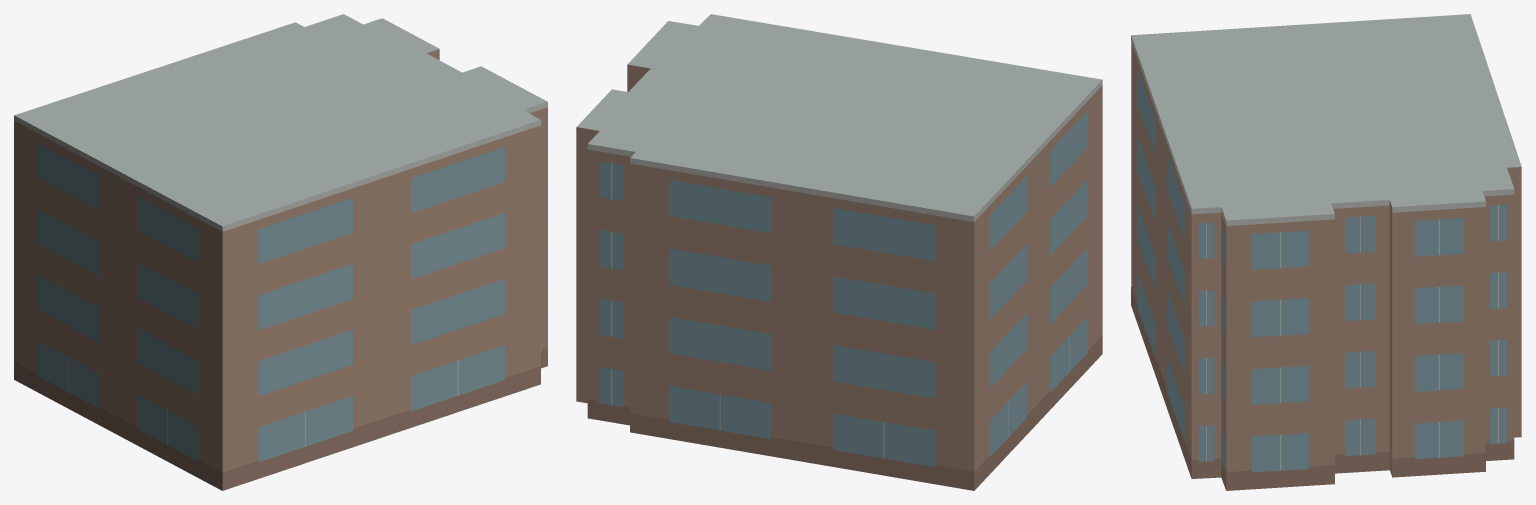
Rendered from survey-upis-32658496.glb.
3 views of the same model, side by side, from view 1: azimuth 30°, elevation 25°; view 2: azimuth 150°, elevation 25°; view 3: azimuth 270°, elevation 25° (orthographic). The views are drawn at different scales.
Parts seen in each view (by area): view 1: survey-upis-32658496.tmp; view 2: survey-upis-32658496.tmp; view 3: survey-upis-32658496.tmp.
Part boxes in pixels (bbox=[...]): survey-upis-32658496.tmp: bbox=[14, 14, 547, 490]; survey-upis-32658496.tmp: bbox=[576, 14, 1102, 490]; survey-upis-32658496.tmp: bbox=[1131, 14, 1521, 490].
Bounding box in the file's own units: 19.67 × 11.99 × 15.72.
